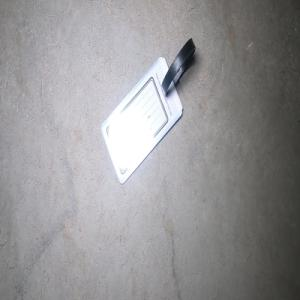LuggageTag: (99, 36, 196, 186)
